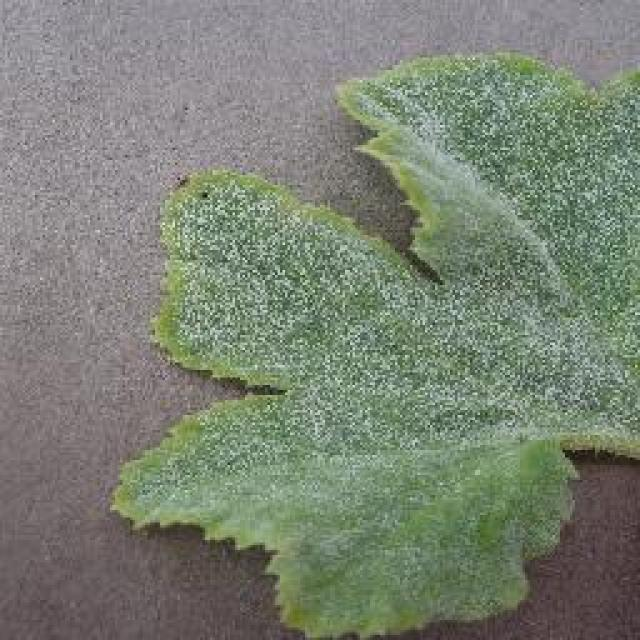Squ_Powdery_mildew: (210, 196, 640, 485)
